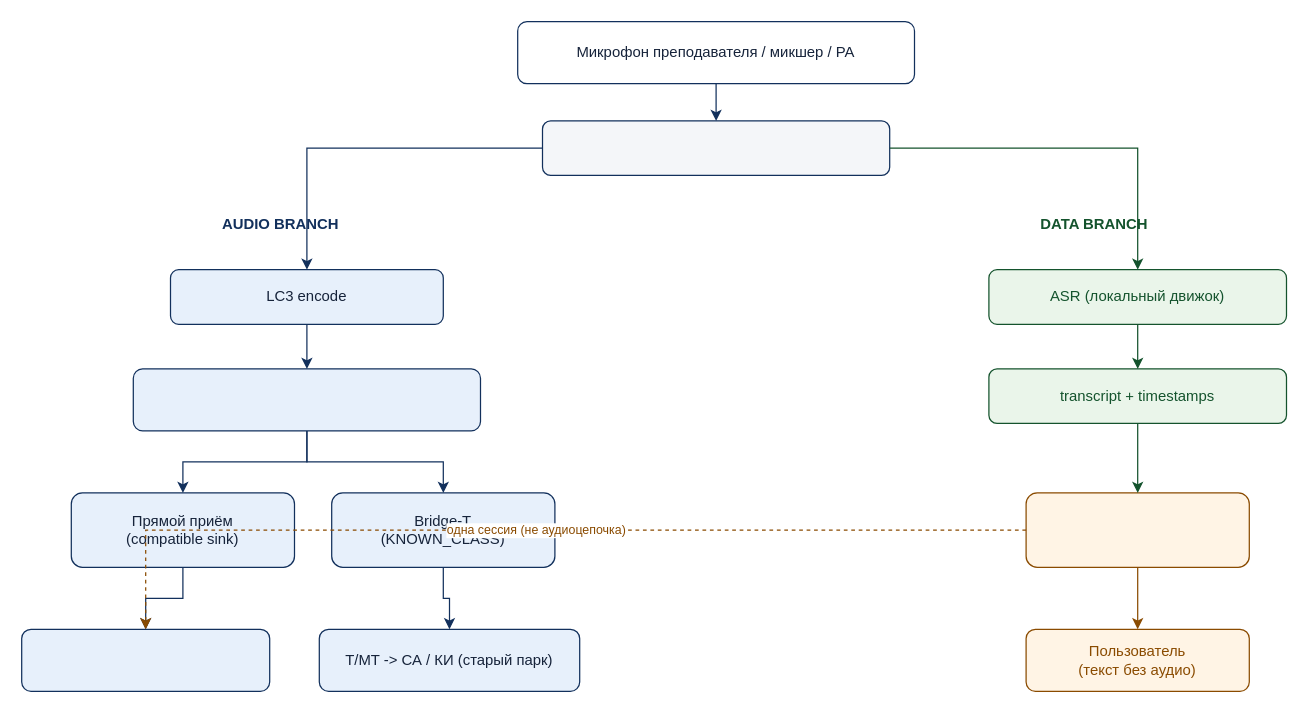
Some shapes in this 1308 by 713 pixel diagram are drawn without their labels. The box of each missing label's shape, as (x1, y1, x2, y2) in pixels:
Auracast (PBP/BAP, BIG/BIS): (132, 368, 480, 431)
CLEAN SOURCE (PCM): (541, 120, 890, 175)
Route+ App (WebSocket): (1025, 492, 1249, 567)
Наушники / совм. СА / КИ: (20, 628, 270, 691)
